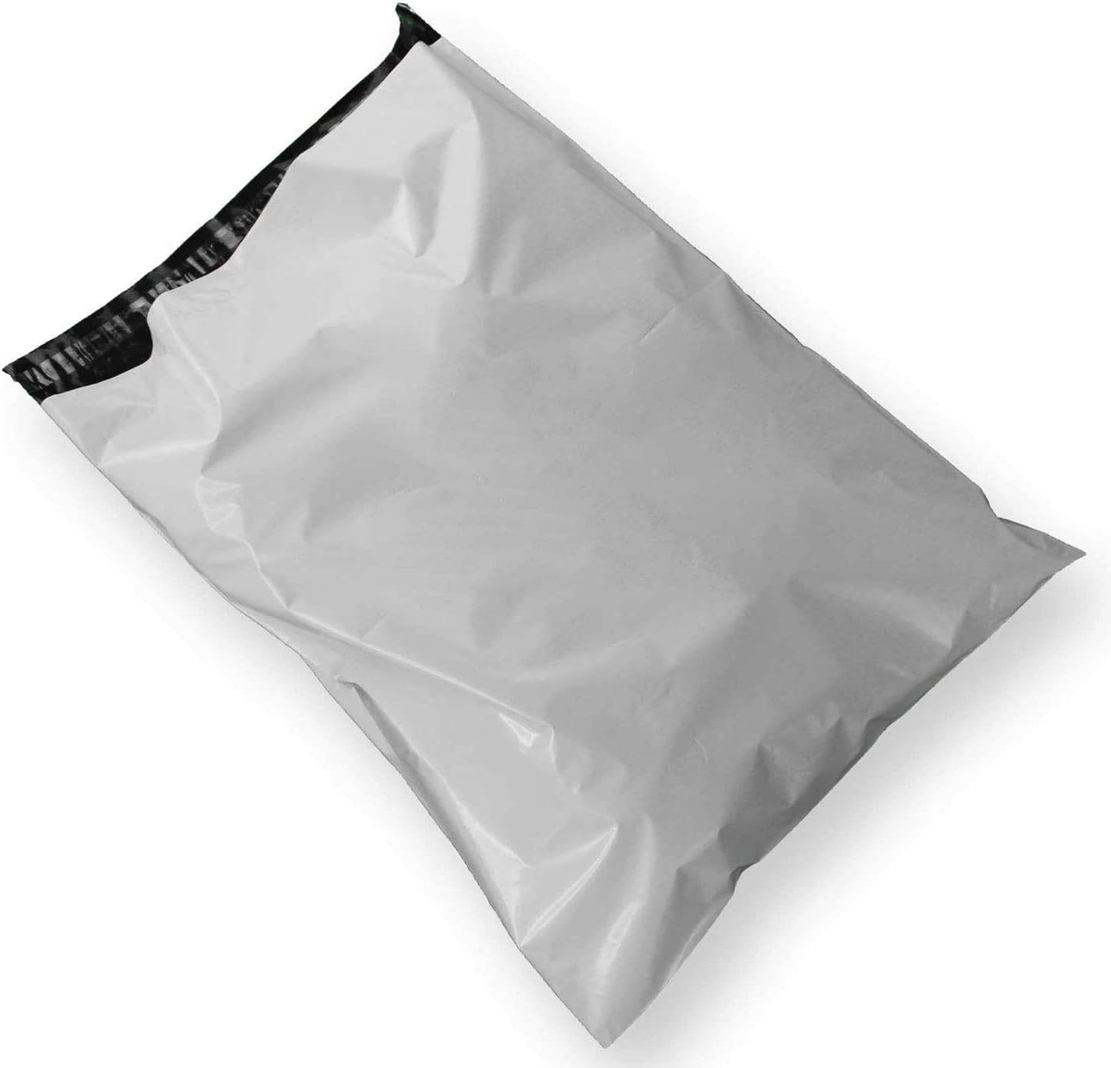Parcel: (4, 8, 1083, 1046)
